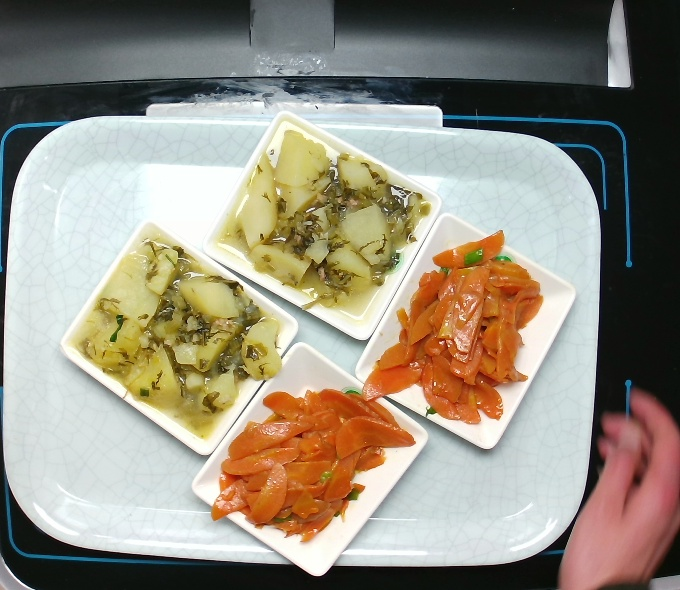wcq-HuLuoBo: (220, 384, 417, 545), (384, 237, 545, 427)
wcq-XueCaiTuDou: (84, 246, 258, 428), (237, 140, 411, 322)
